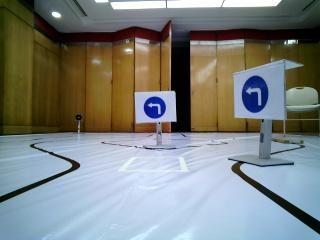left: (236, 66, 278, 117), (137, 91, 177, 120)
